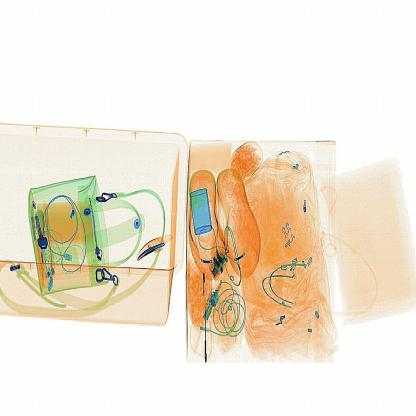pliers: (129, 222, 179, 268)
